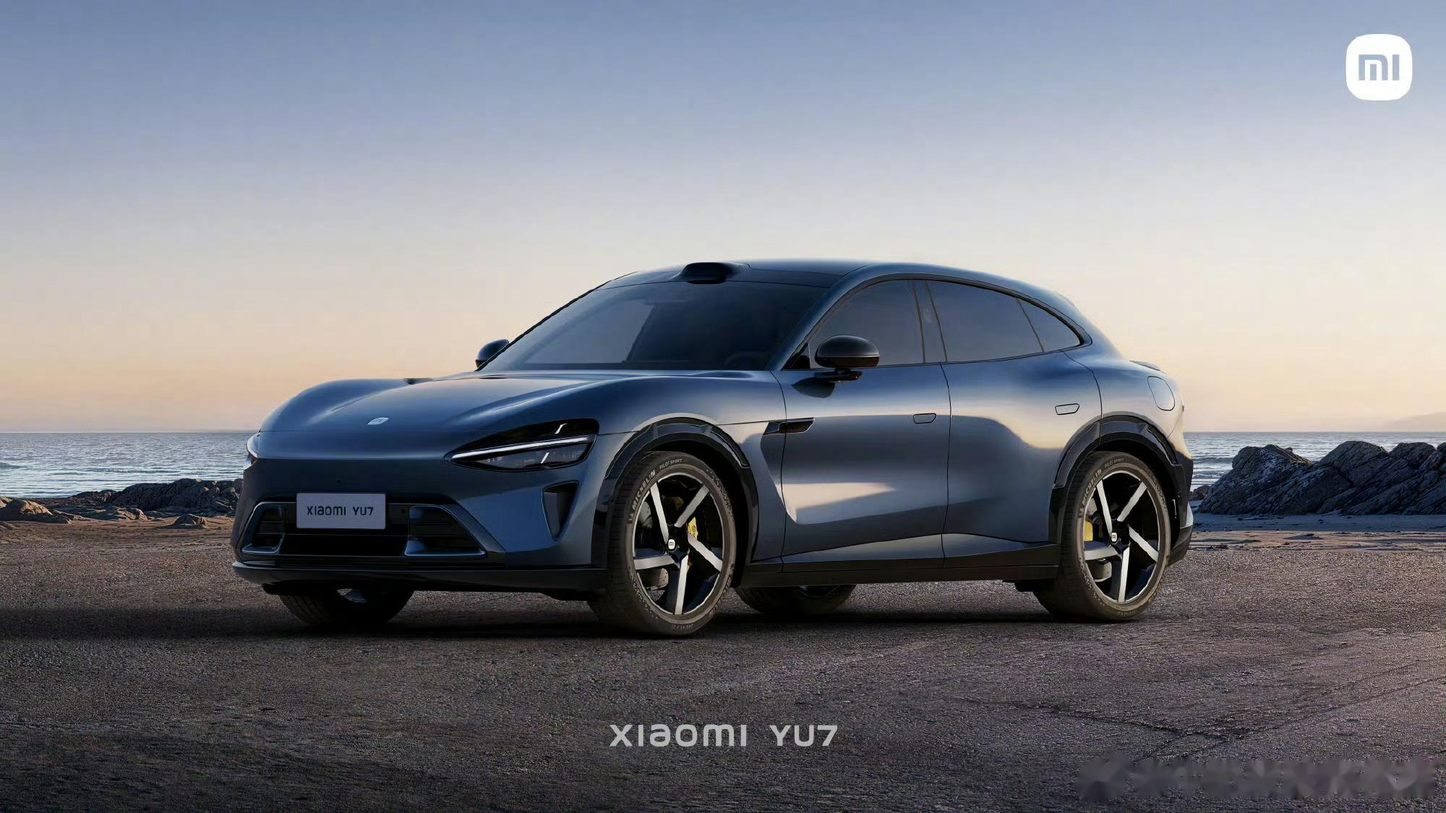other: (239, 245, 1198, 641)
